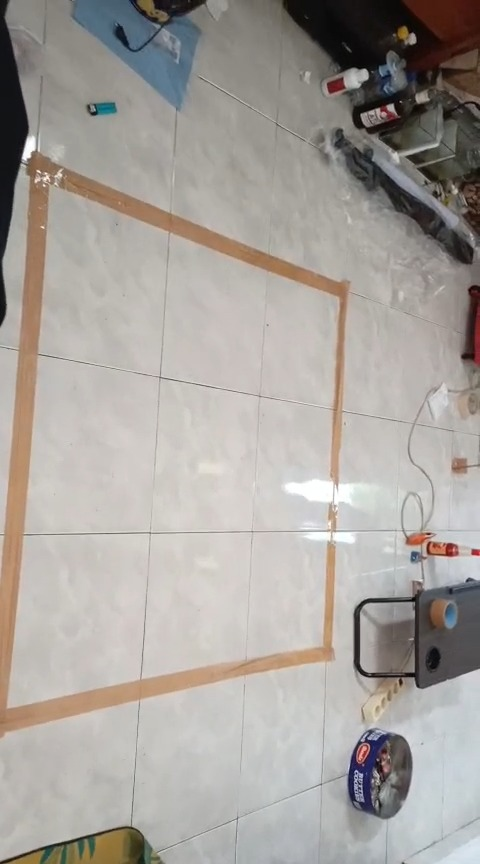floor marking: (0, 152, 347, 736)
